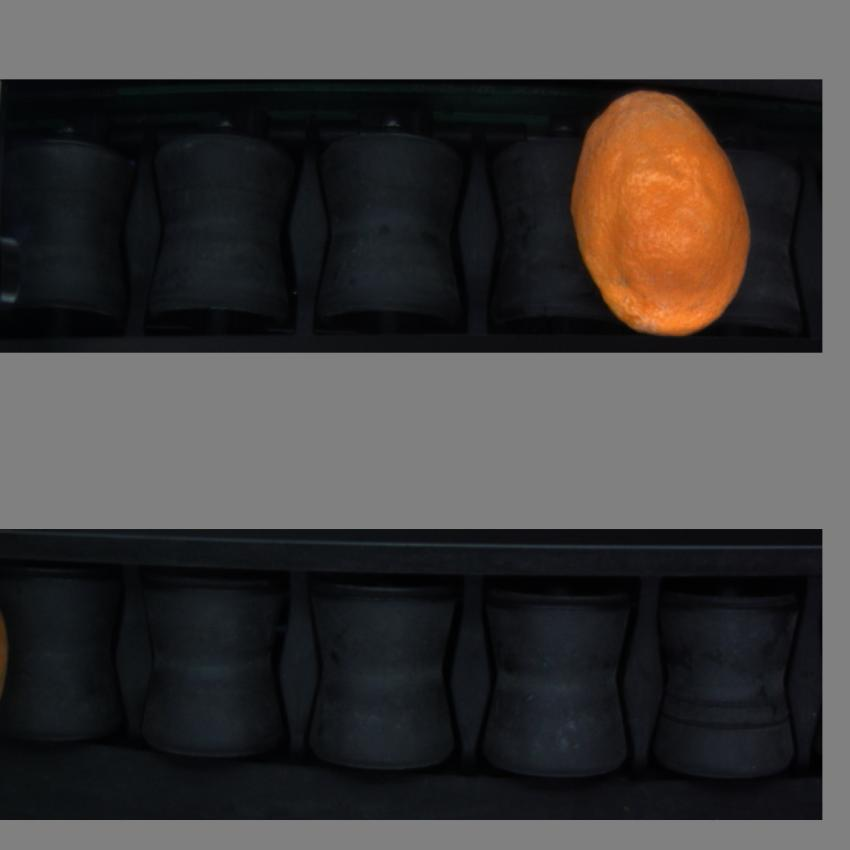Mal estado: (571, 88, 752, 345)
